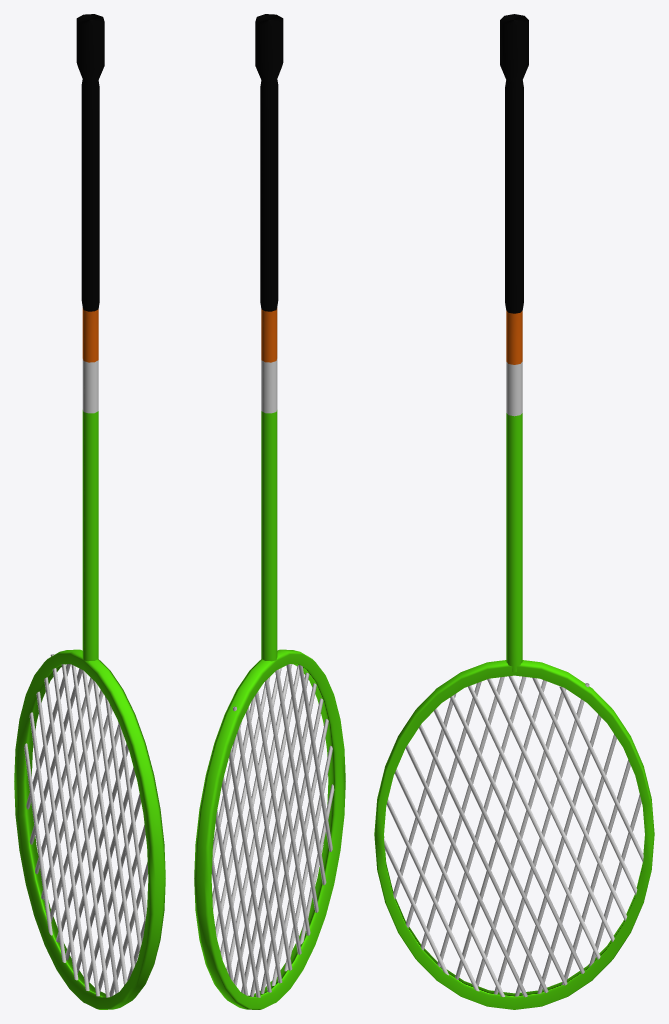
Rendered from Paddle_2.fbx.
The picture shows the model from 3 angles, left to right: view 1: azimuth 30°, elevation 25°; view 2: azimuth 150°, elevation 25°; view 3: azimuth 270°, elevation 25°; orthographic projection.
Parts seen in each view (by area): view 1: Cylinder; view 2: Cylinder; view 3: Cylinder.
Boxes of the visible parts, left/top/right/bottom form: Cylinder: left=14, top=14, right=165, bottom=1009; Cylinder: left=194, top=14, right=345, bottom=1009; Cylinder: left=374, top=14, right=654, bottom=1009.
Size of the model in its own units: 8.06 by 304 by 78.03.
